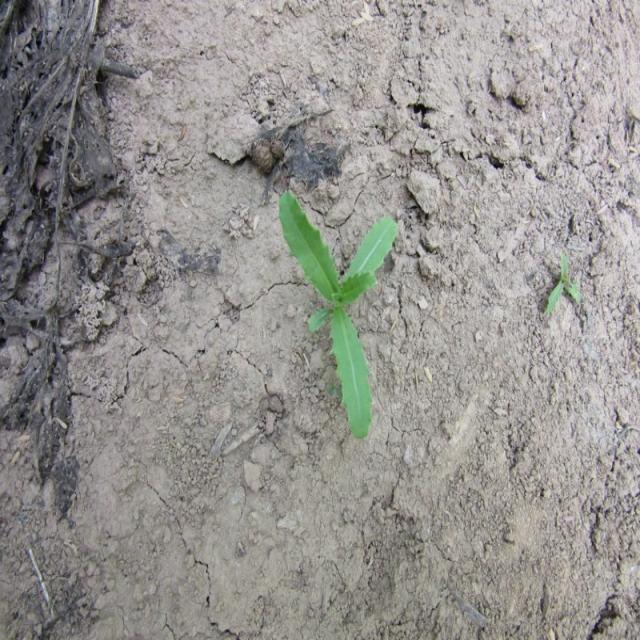field_thistle: (239, 130, 413, 452)
